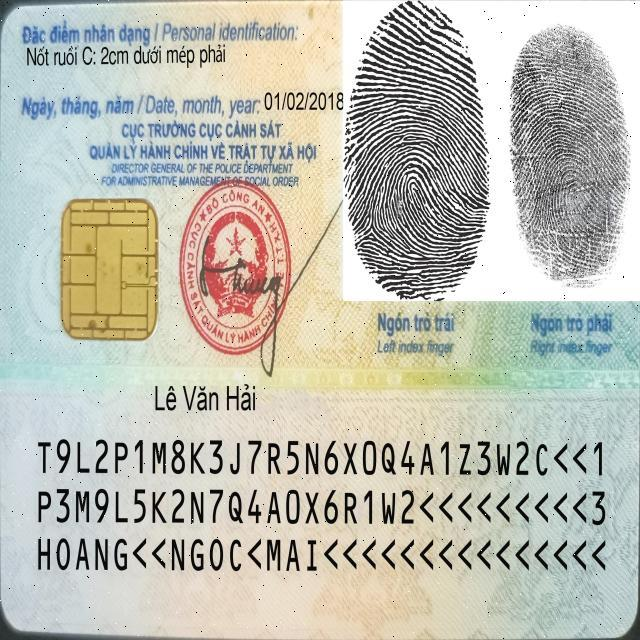features: (23, 36, 236, 74)
finger_print: (341, 1, 500, 361), (498, 0, 640, 358)
issue_date: (261, 85, 347, 116)
